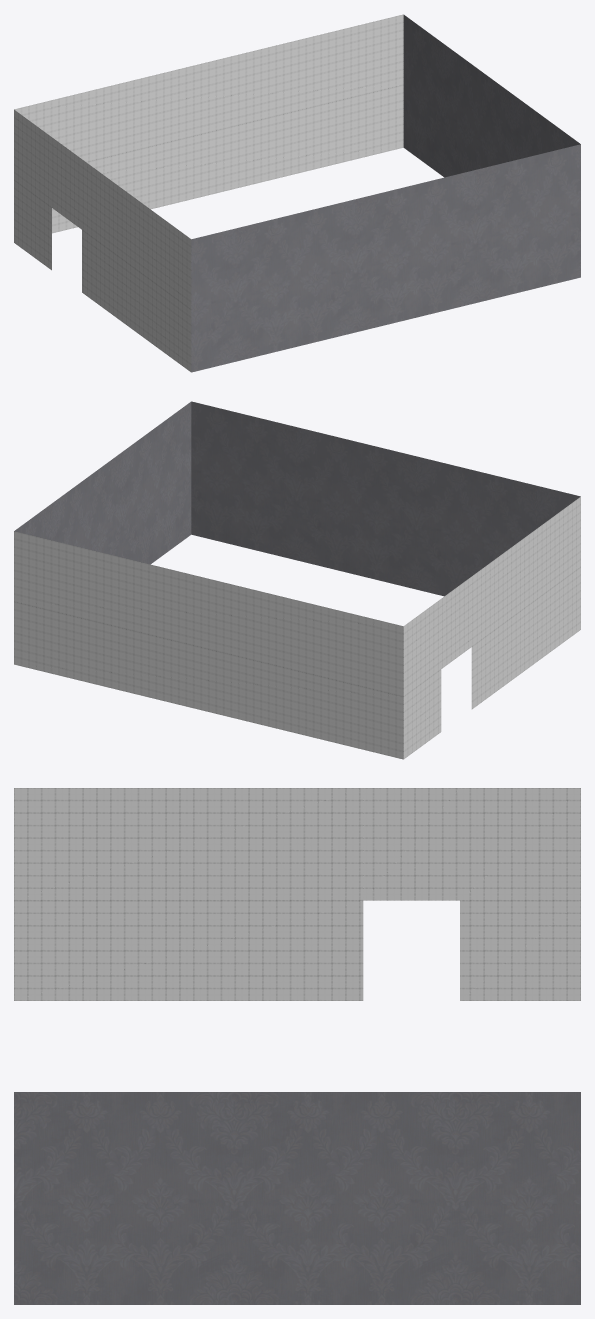
The model's file is Right2_Side.fbx.
The picture shows the model from 3 angles, top to bottom: view 1: azimuth 30°, elevation 25°; view 2: azimuth 150°, elevation 25°; view 3: azimuth 270°, elevation 25°; orthographic projection. The views are drawn at different scales.
Visible parts, largest first — view 1: Right (1); view 2: Right (1); view 3: Right (1).
Boxes of the visible parts, bbox=[...] form: Right (1): bbox=[14, 14, 580, 372]; Right (1): bbox=[14, 401, 580, 759]; Right (1): bbox=[14, 788, 580, 1304].
Size of the model in its own units: 5200 by 1700 by 4100.
